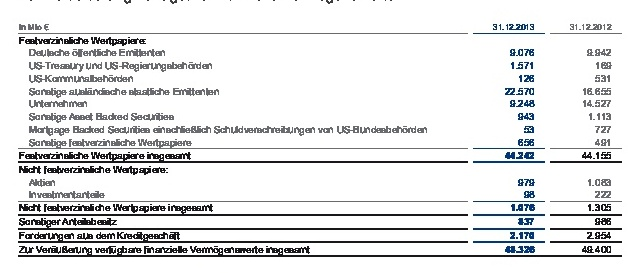table: (0, 0, 631, 273)
